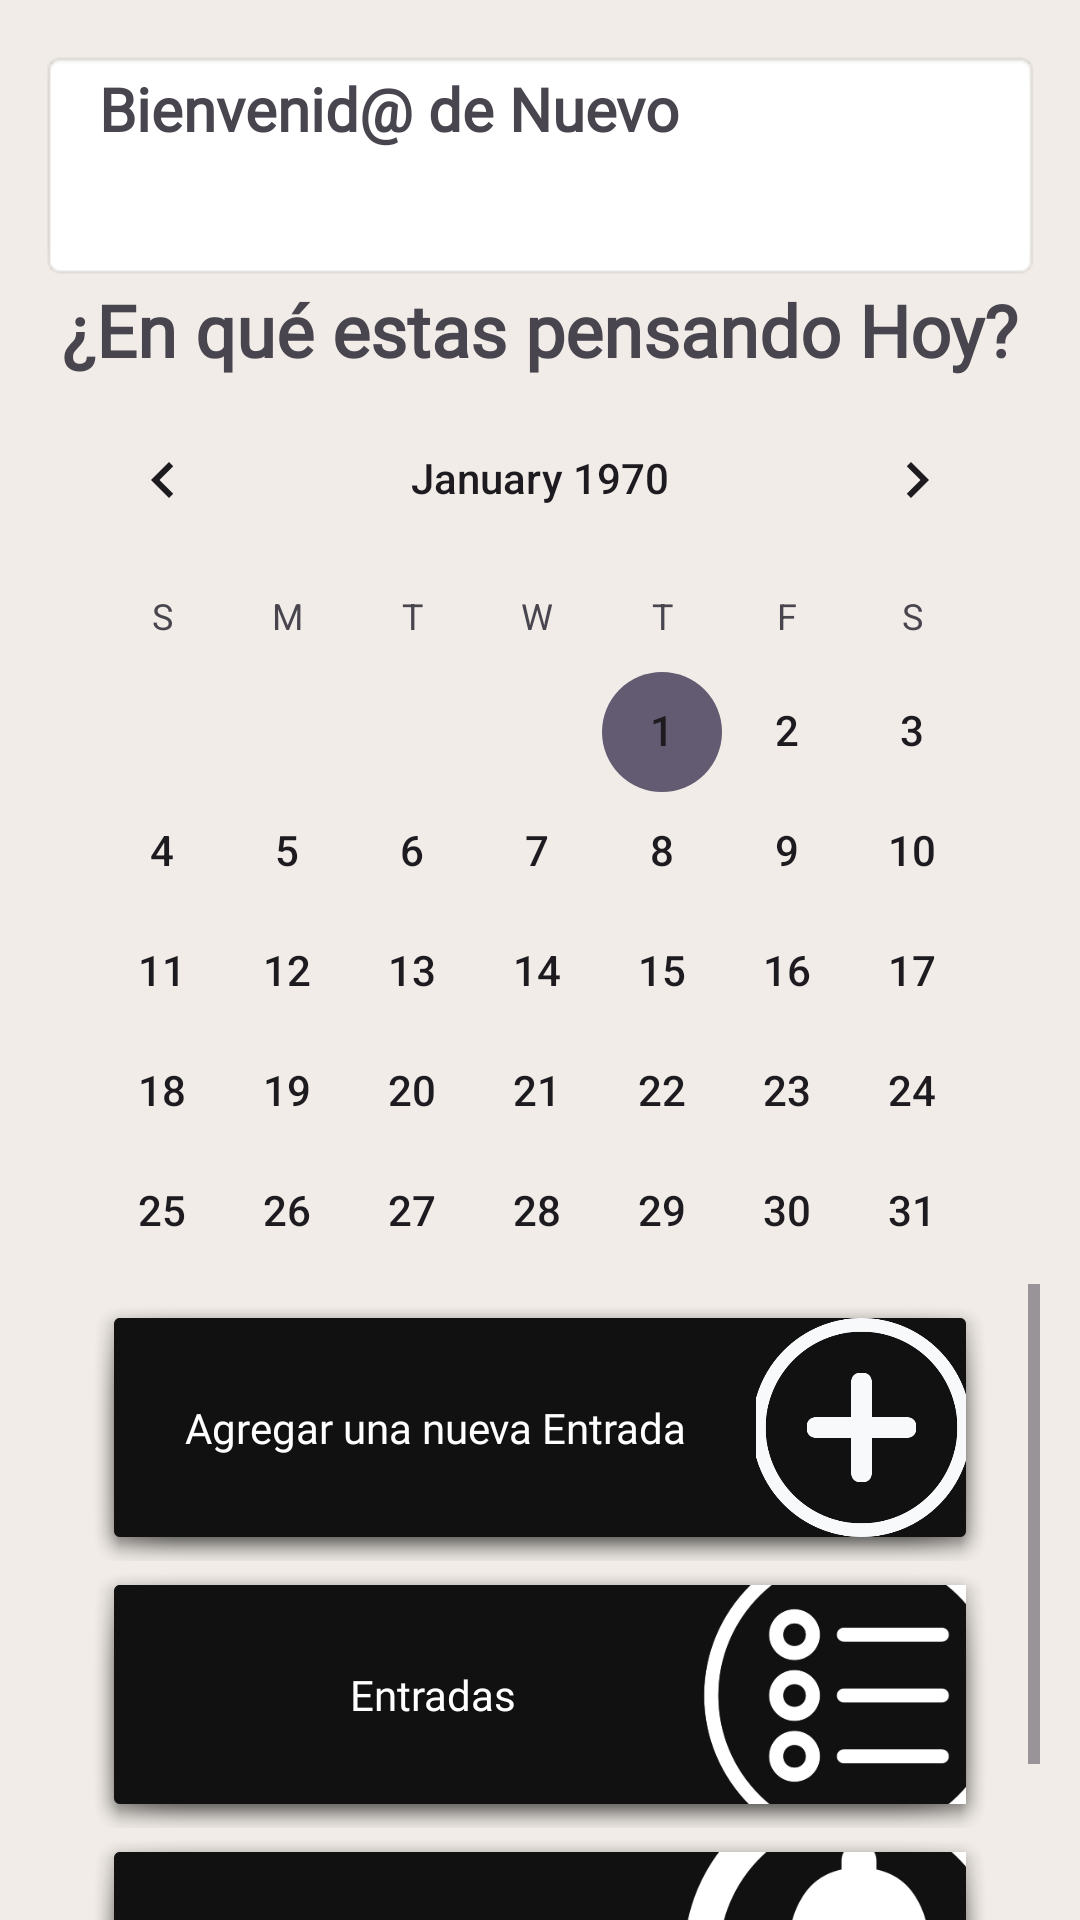

Where to tap for icons on this 1080 x 1920 app screen, as (x,y):
mas: (861,1427)
